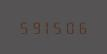five: (17, 20, 28, 34), (54, 20, 65, 34)
nine: (29, 20, 40, 34)
one: (42, 20, 53, 34)
six: (78, 20, 89, 34)
zero: (66, 20, 77, 34)
